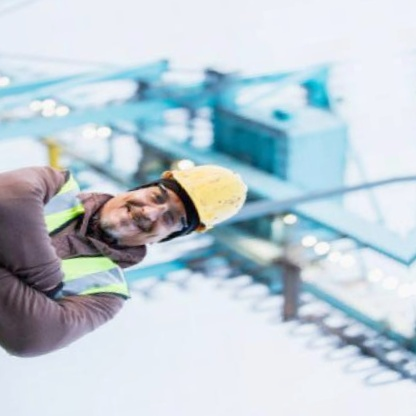white: (165, 139, 257, 251)
